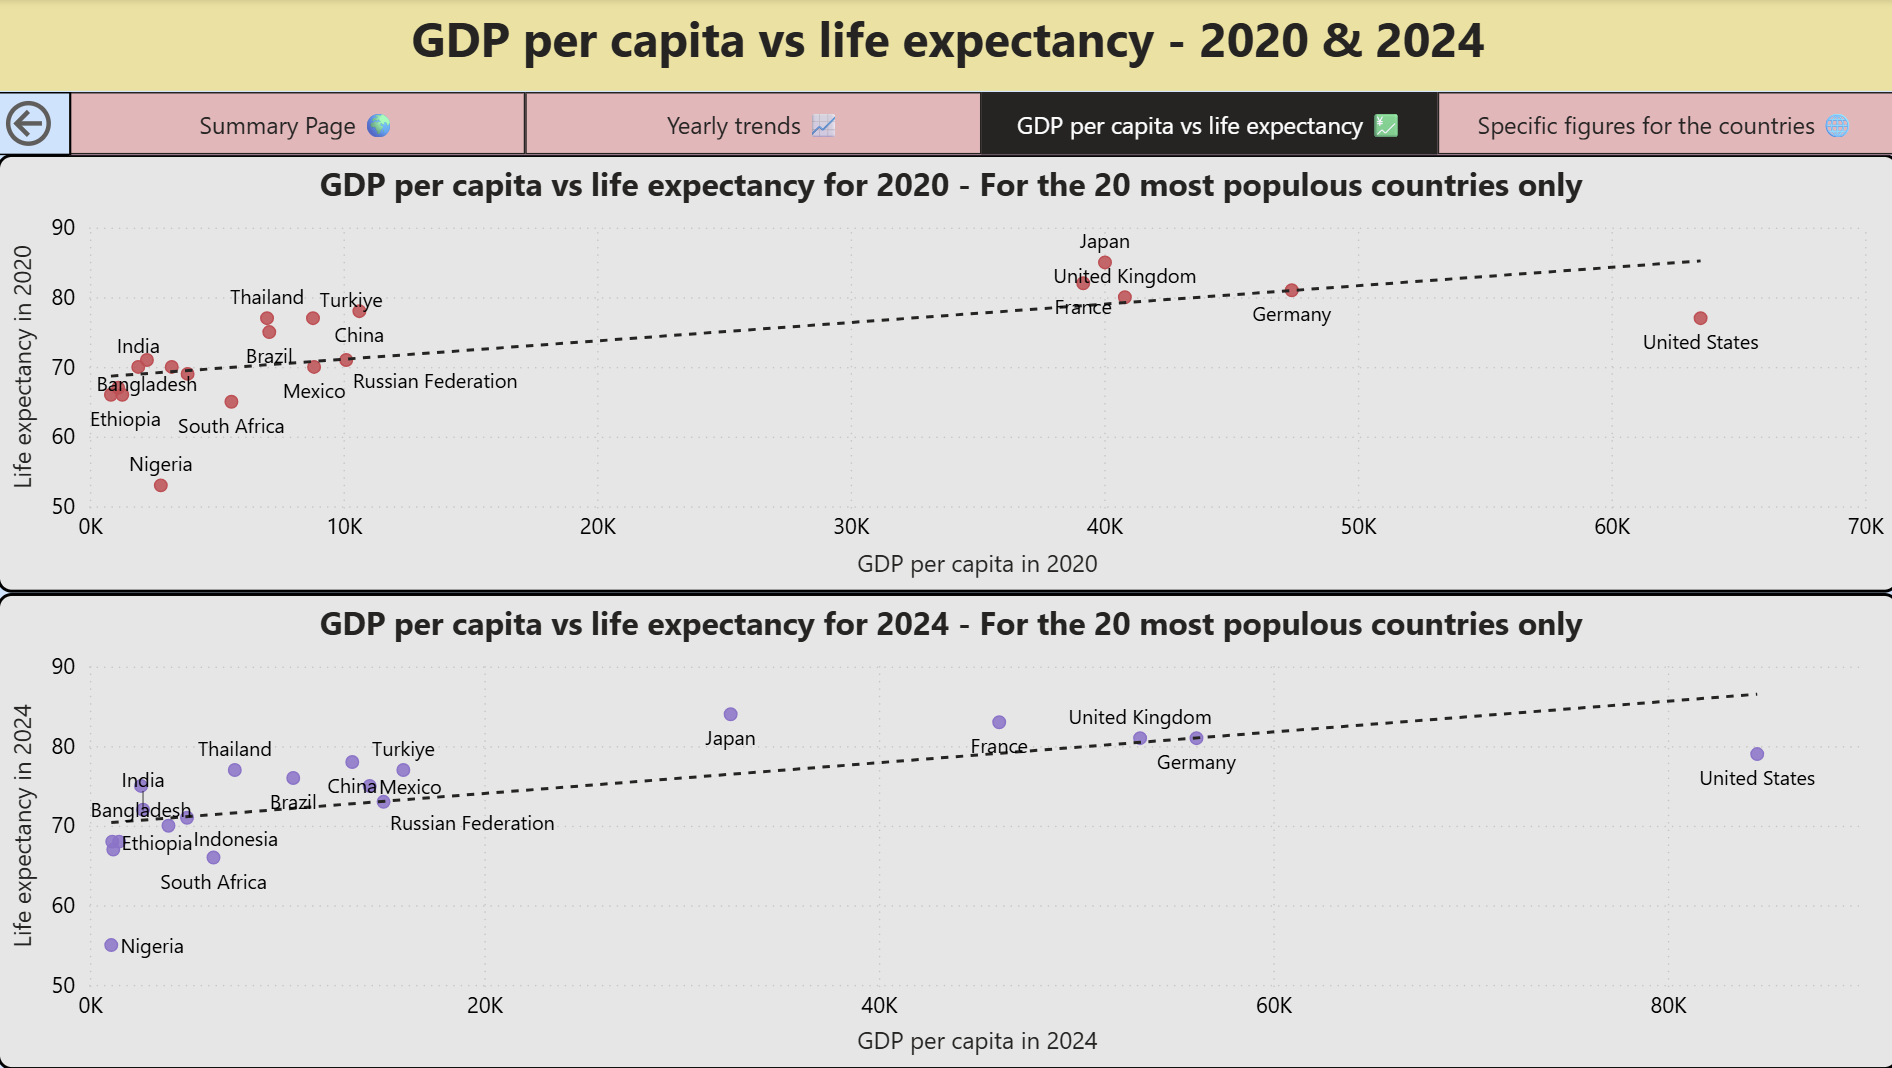

The dashboard page shown, as its layout file describes it:
{"tool":"powerbi","page":{"name":"GDP per capita vs life expectancy 💹","canvas":[1280,720],"ordinal":3},"visuals":[{"type":"scatterChart","title":"GDP per capita vs life expectancy for 2020 - For the 20 most populous countries only","fields":{"Category":["MARTS_GDP_PER_CAPITA_FINAL.COUNTRY"],"X":["Sum(MARTS_GDP_PER_CAPITA_FINAL.GDP_PER_CAPITA_2020)"],"Y":["Sum(MARTS_LIFE_EXPECTANCY_FINAL.LIFE_EXPECTANCY_2020)"]},"box":[0,105,1280,294.5],"z":0},{"type":"textbox","box":[0,0,1280,62.7],"z":1000},{"type":"scatterChart","title":"GDP per capita vs life expectancy for 2024 - For the 20 most populous countries only","fields":{"Category":["MARTS_GDP_PER_CAPITA_FINAL.COUNTRY"],"X":["Sum(MARTS_GDP_PER_CAPITA_FINAL.GDP_PER_CAPITA_2024)"],"Y":["Sum(MARTS_LIFE_EXPECTANCY_FINAL.LIFE_EXPECTANCY_2024)"]},"box":[0,399.5,1280,321.2],"z":2000},{"type":"pageNavigator","box":[48.6,62.7,1231.4,42.3],"z":3000},{"type":"actionButton","box":[0,62.7,50.1,42.3],"z":4000}]}

Visuals, with their boxes on the page's 1280x720 design canvas (x1, y1, x2, y2). These are canvas units, not pixel positions in the 1892x1068 screenshot, which may show the page scaled, cropped or inside an application window:
"GDP per capita vs life expectancy for 2020 - For the 20 most populous countries only" scatterChart: l=0, t=105, r=1280, b=400
textbox: l=0, t=0, r=1280, b=63
"GDP per capita vs life expectancy for 2024 - For the 20 most populous countries only" scatterChart: l=0, t=400, r=1280, b=721
pageNavigator: l=49, t=63, r=1280, b=105
actionButton: l=0, t=63, r=50, b=105
